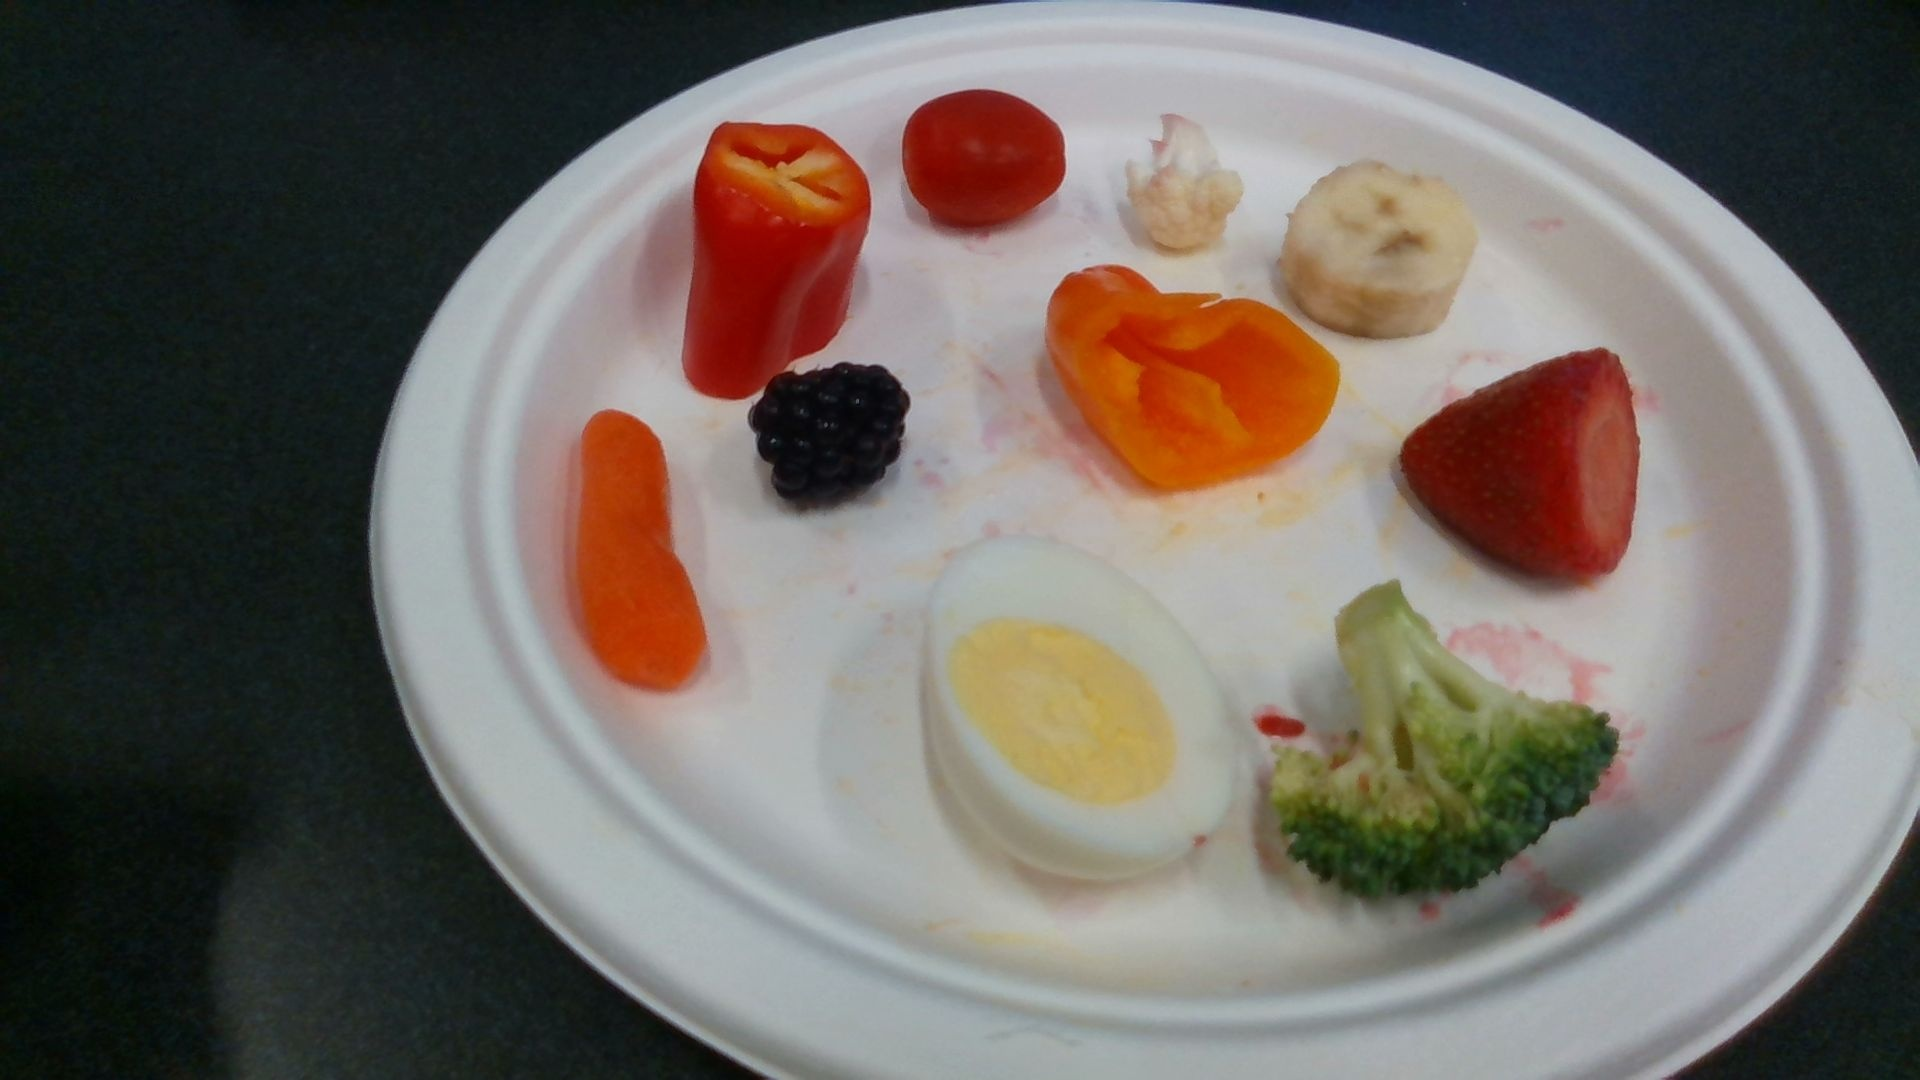banana: (1282, 164, 1477, 328)
bell_pepper: (1047, 265, 1338, 487), (684, 123, 870, 400)
blackberry: (752, 365, 910, 512)
broccoli: (1273, 580, 1615, 898)
carrot: (580, 410, 709, 694)
cauliflower: (1129, 113, 1242, 251)
cherry_tomato: (905, 91, 1065, 223)
egg: (928, 541, 1230, 878)
strawberry: (1404, 351, 1639, 580)
